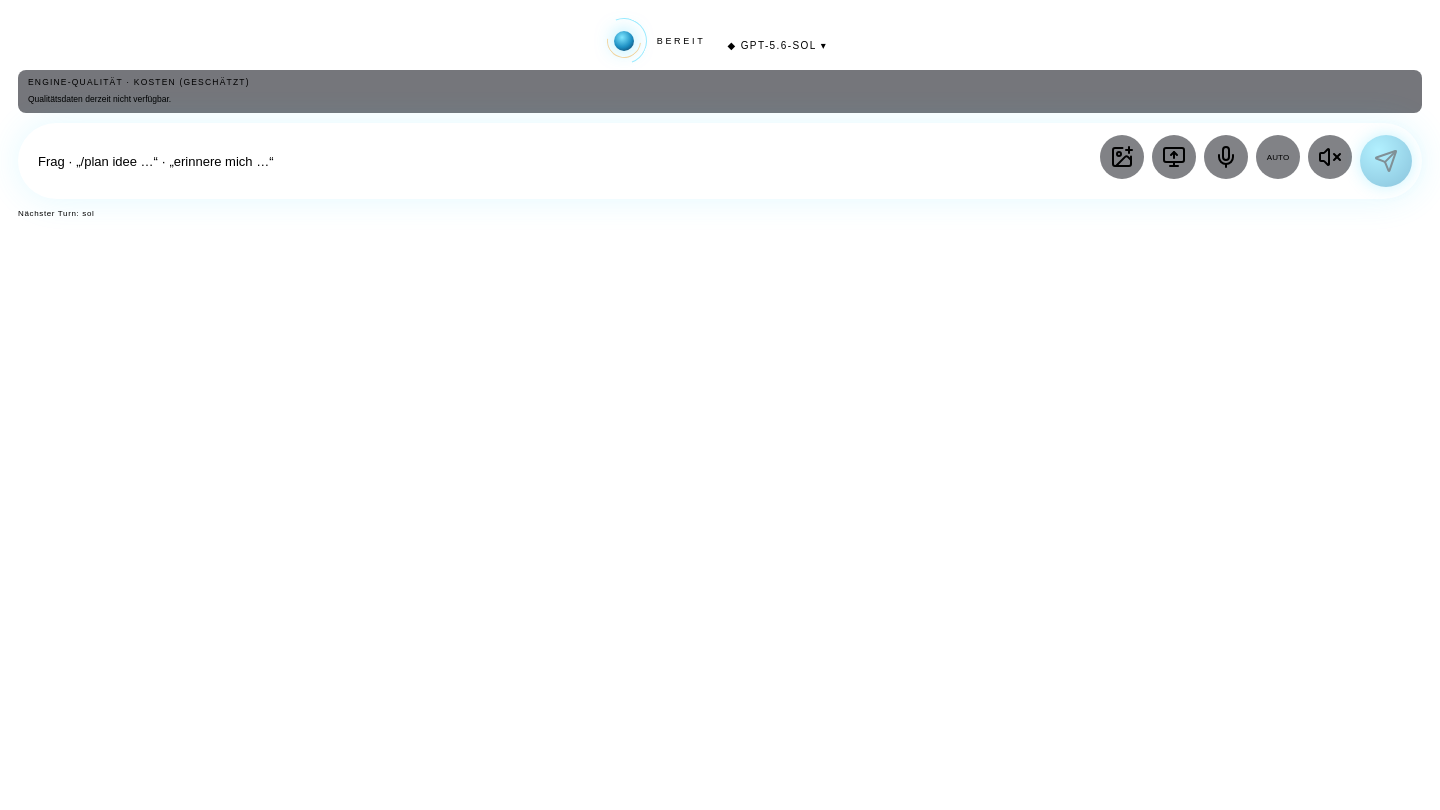
Scenario: PlanspecDraft (/plan-Flow, Wire aus pa_planspec.py) › WARN-Card: amber-Status + Findings offen sichtbar, Propose erlaubt
Step 1. Type "/plan drei unabhängige Panels" into the field named "Nachricht an Jarvis" → (564, 161), box [38, 139, 1090, 183]
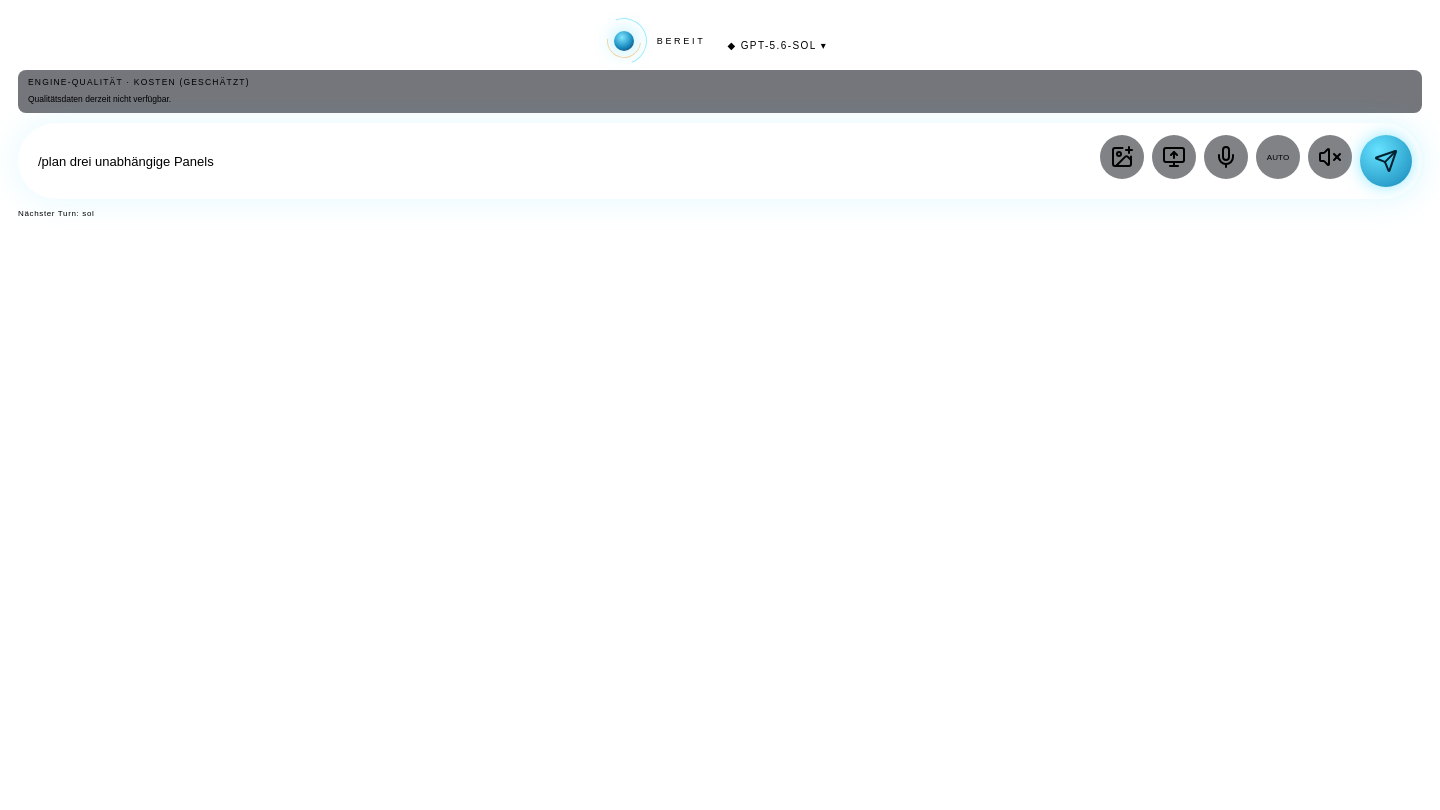
Step 2. Click the button named "Nachricht senden" → (1386, 161), box [1360, 135, 1412, 187]
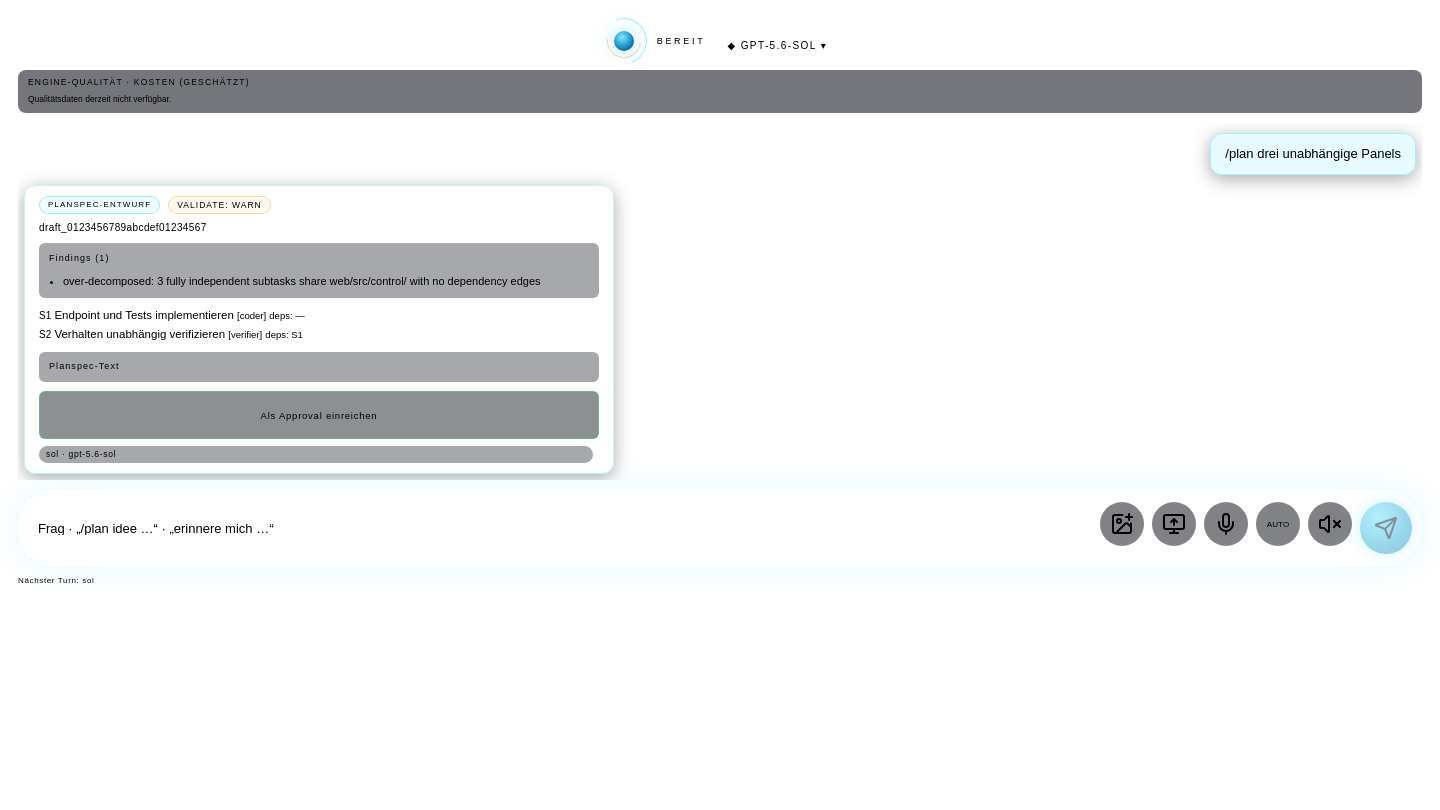
Expected: the element with test id "jv-plan-draft_0123456789abcdef01234567" shows "VALIDATE: WARN", [177, 200, 262, 210]
Expected: the element with test id "jv-plan-draft_0123456789abcdef01234567" shows "over-decomposed: 3 fully independent subtasks share web/src/control/ with no dependency edges", [63, 275, 541, 287]
Expected: the button "Als Approval einreichen" is enabled, [39, 391, 599, 439]
